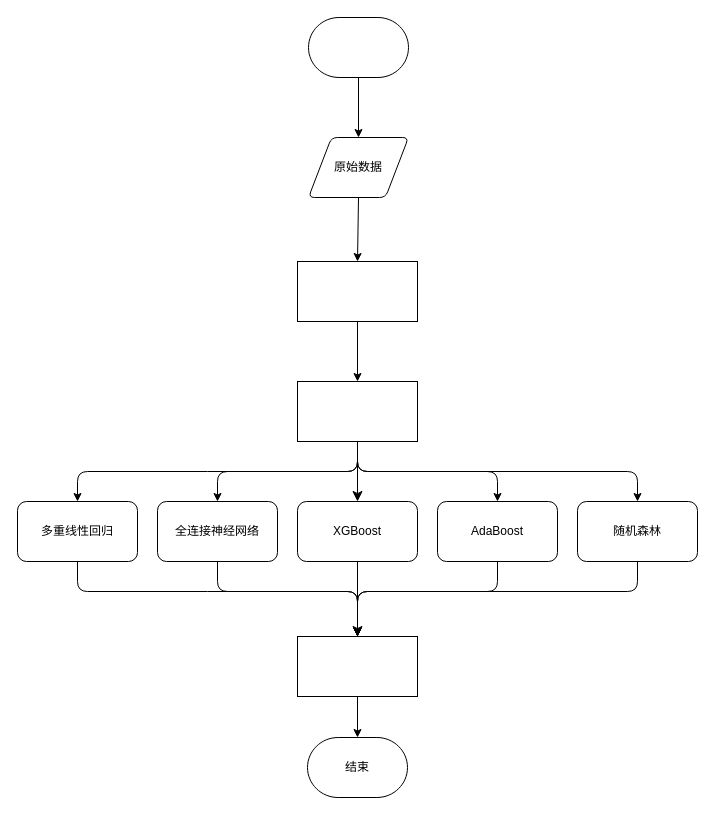
Image size: 715x815. Some labels were removed from this diagram. Each missing label, with the centre of its shape:
"开始" belongs at (x=358, y=47).
"数据分布与预处理" belongs at (x=357, y=291).
"模型评估" belongs at (x=357, y=666).
"相关分析与特征工程" belongs at (x=357, y=411).
